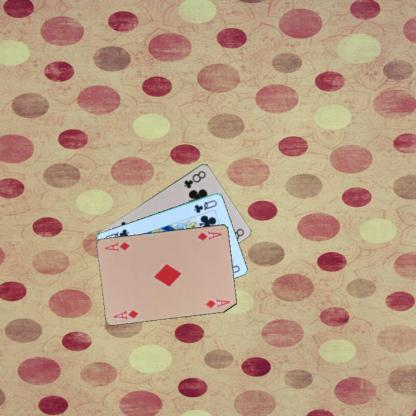8c: (181, 167, 207, 190)
Ad: (110, 306, 140, 321), (194, 228, 224, 242)
Qc: (192, 197, 219, 214)
